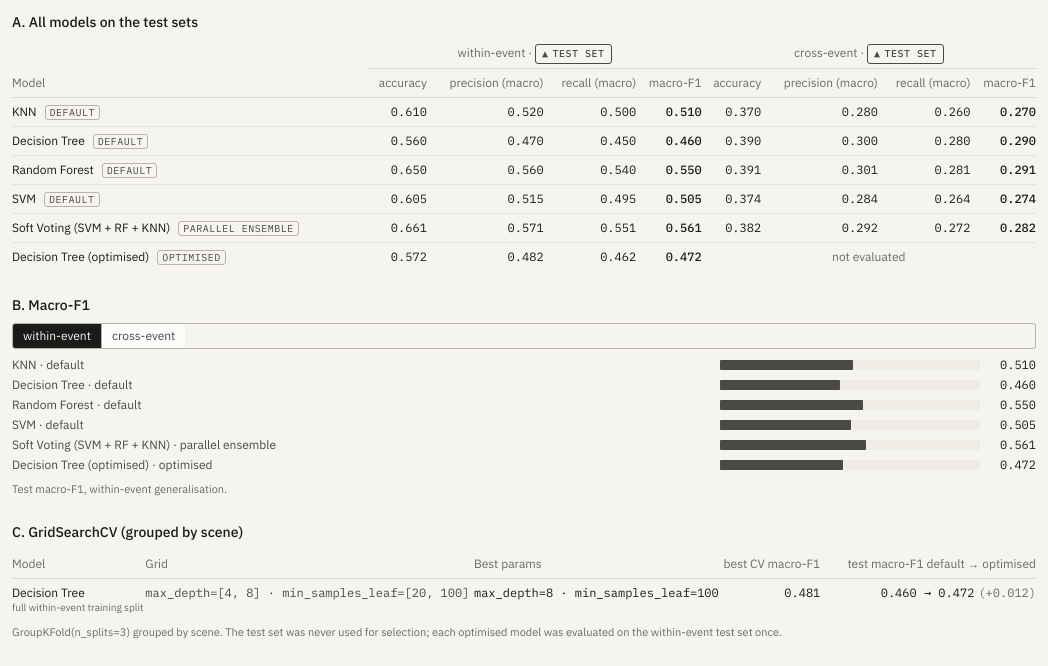
Test: Model Comparison & Ensemble Analysis › shows the comparison table, GridSearchCV, confusion matrix, per-class metrics and the ensemble explanation from the API
Expected: the text "Soft Voting (SVM + RF + KNN)" is shown, [12,220,170,235]
Expected: the text "parallel ensemble" is shown once, [178,221,299,236]
Click the radio button labelled "cross-event" below "B. Macro-F1" at (144, 336), box [102,324,185,348]
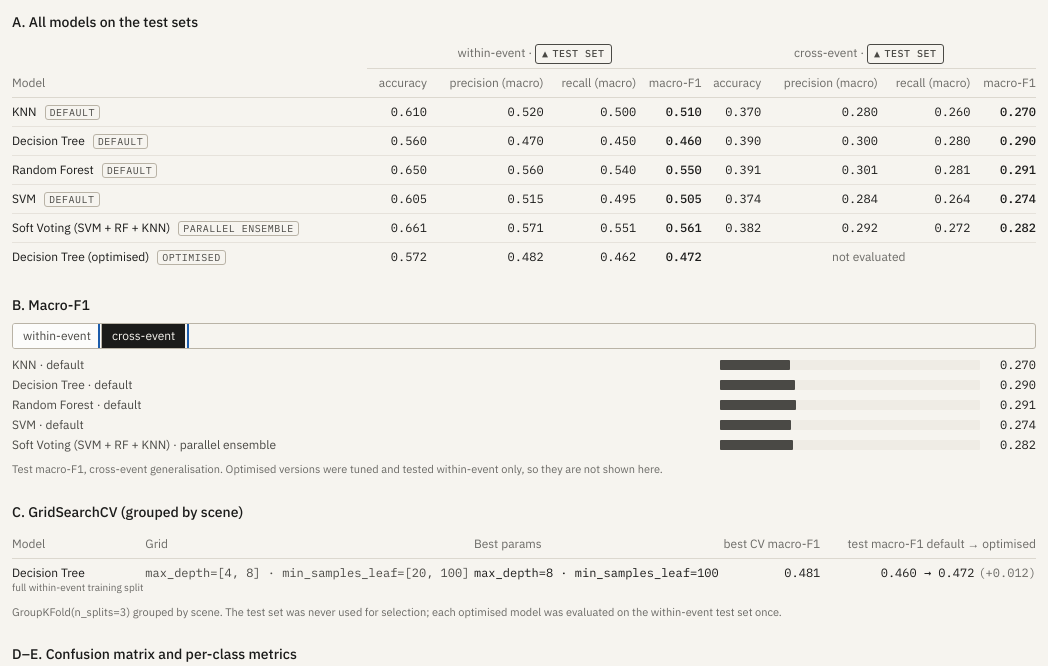
Result: the text "Optimised versions were tuned and tested within-event only" is shown at [223,462,663,476]
